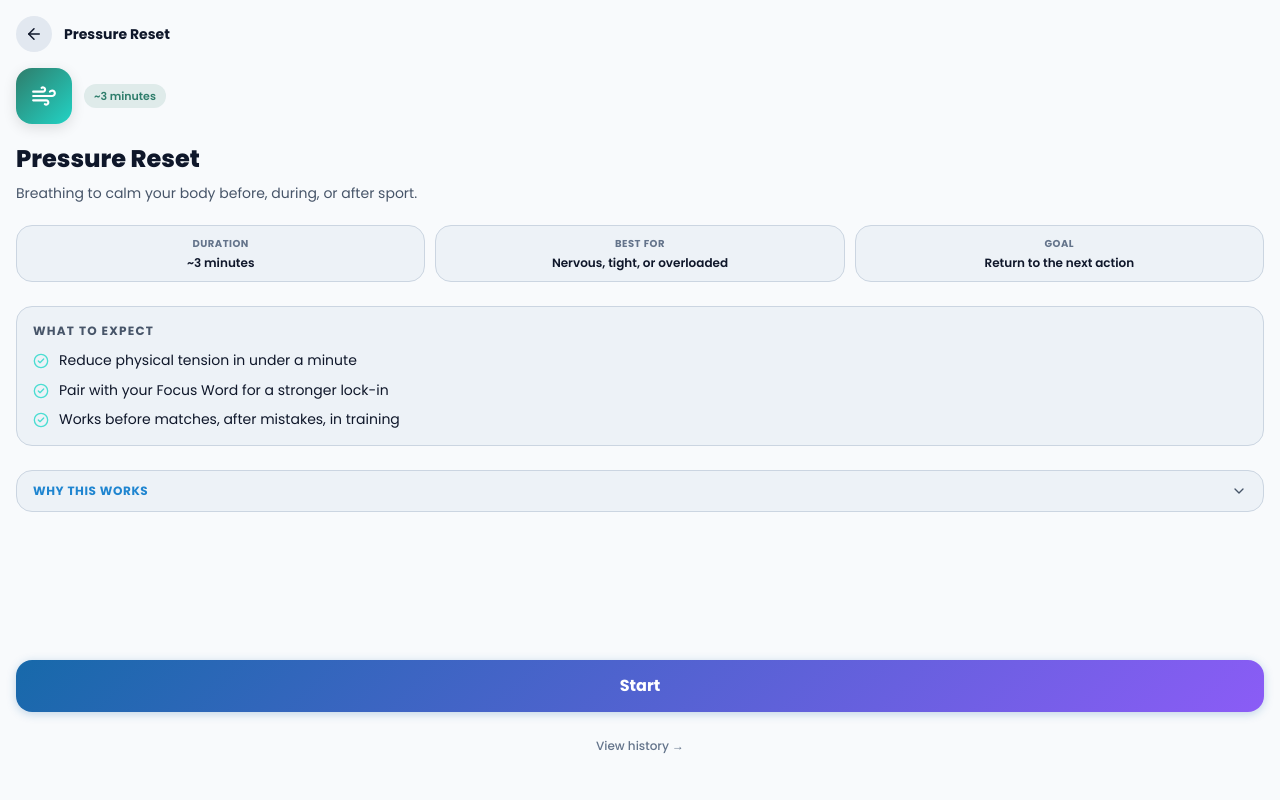
Scenario: Pressure Reset — shared practice shell (Stage 7) › the "why this works" disclosure is collapsed by default and expands on tap
The width and height of the screenshot is (1280, 800).
Click the button "Why this works": (91, 490) [17,471,1263,511]
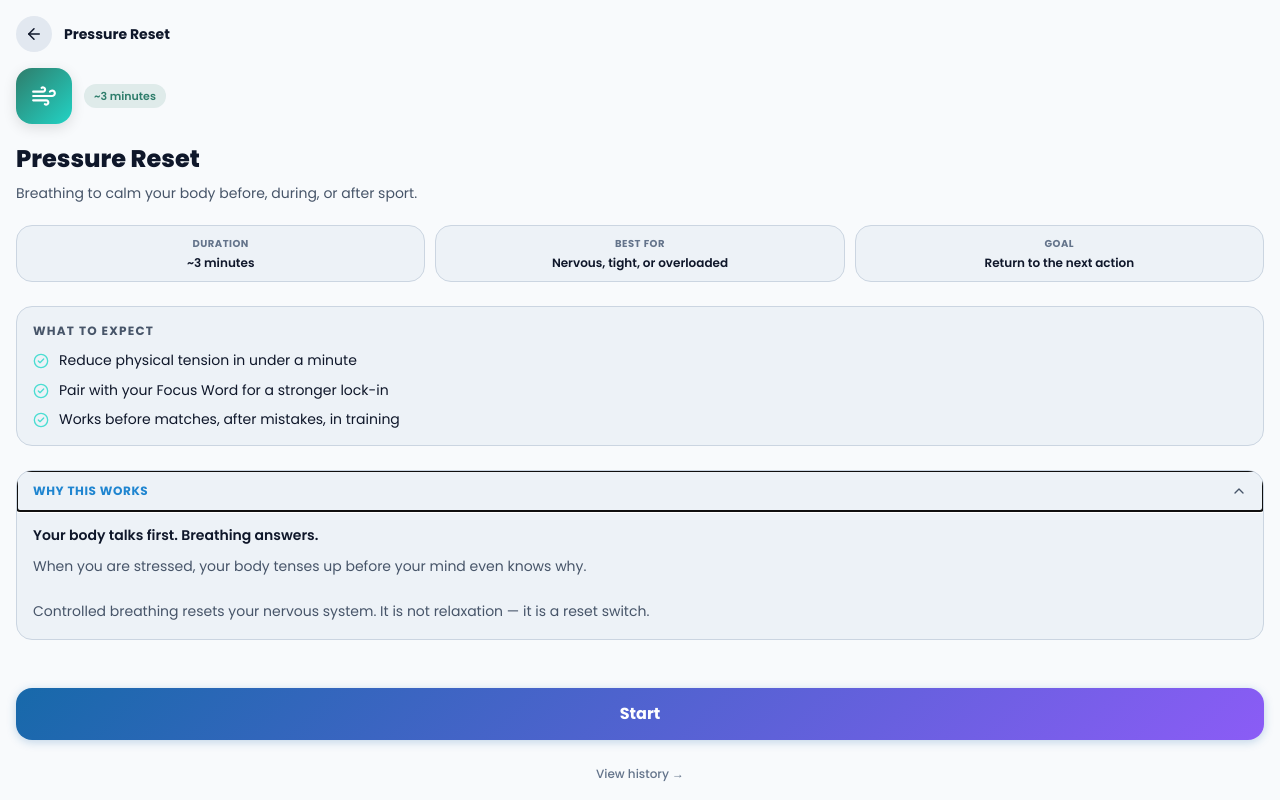
Expected: the button "Why this works" is expanded, [17,471,1263,511]
Expected: the text "reset switch" is shown, [33,556,649,621]
